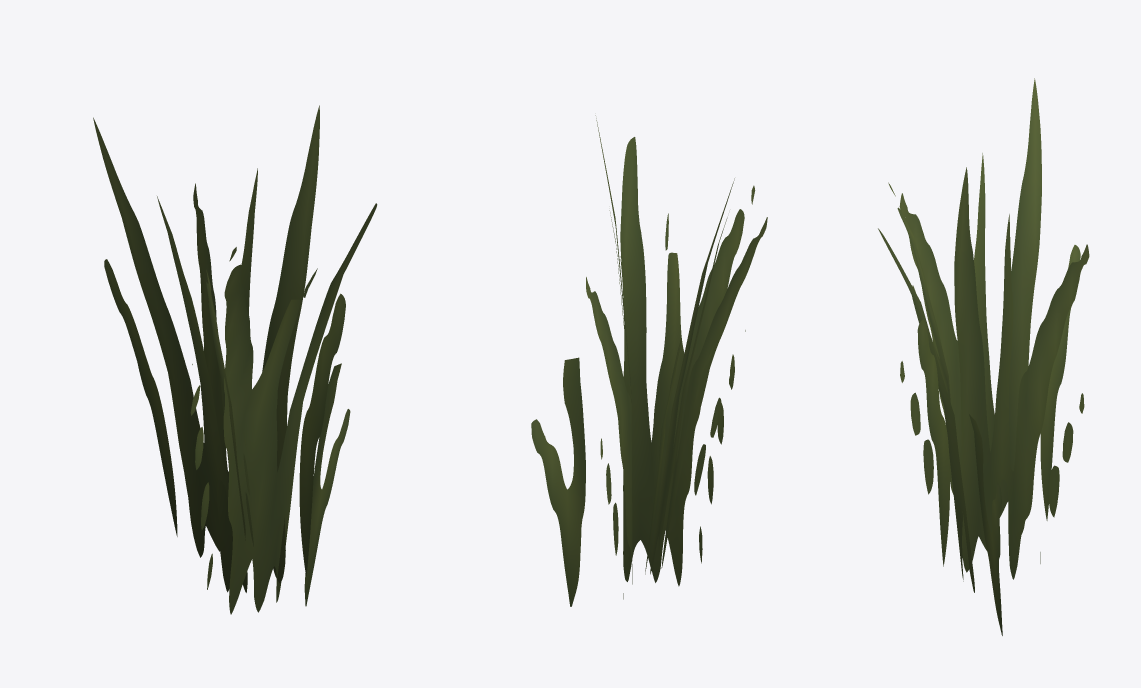
Rendered from Plant_06.fbx.
3 renders of one model, left to right at view 1: azimuth 30°, elevation 25°; view 2: azimuth 150°, elevation 25°; view 3: azimuth 270°, elevation 25°, orthographic. The views are drawn at different scales.
Visible parts, largest first — view 1: Plant_06; view 2: Plant_06; view 3: Plant_06.
Boxes of the visible parts, x1,y1,x2,y2 form: Plant_06: (93,105,377,614); Plant_06: (531,115,767,606); Plant_06: (878,78,1089,635).
Bounding box in the file's own units: 140 × 242 × 120.
Materials: 1 (1 with a texture image).
